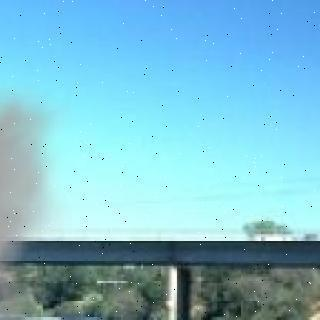smoke: (0, 73, 69, 320)
